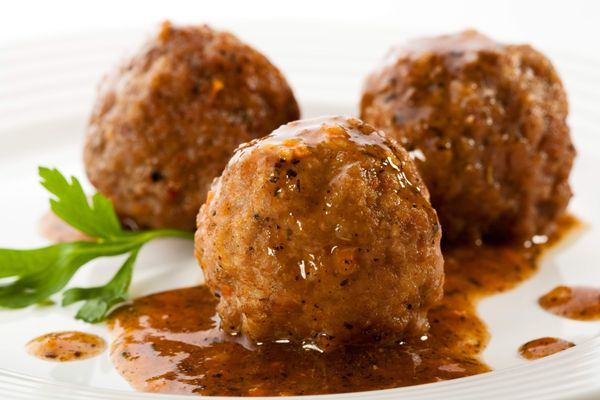salad: (358, 26, 577, 249)
